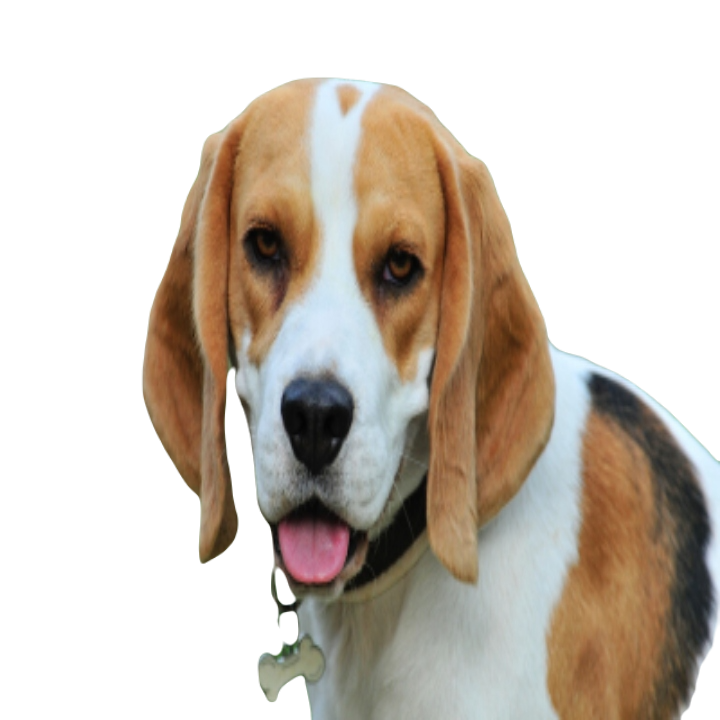Dog: (138, 82, 719, 719)
